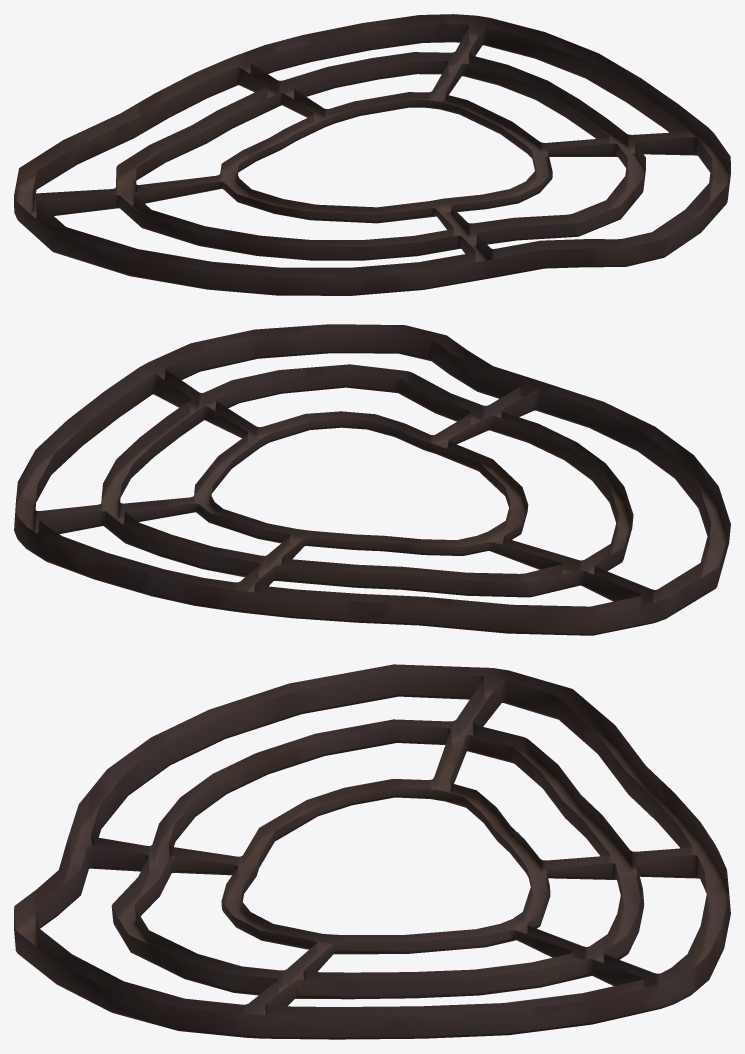
Rendered from ceiling1.fbx.
3 renders of one model, top to bottom at view 1: azimuth 30°, elevation 25°; view 2: azimuth 150°, elevation 25°; view 3: azimuth 270°, elevation 25°, orthographic. The views are drawn at different scales.
Visible parts, largest first — view 1: wall4.001; view 2: wall4.001; view 3: wall4.001.
Boxes of the visible parts, x1,y1,x2,y2 form: wall4.001: (14,14,730,295); wall4.001: (14,324,730,635); wall4.001: (14,664,730,1039).
Bounding box in the file's own units: 903 × 34.53 × 778.
1 material, 1 textured.
